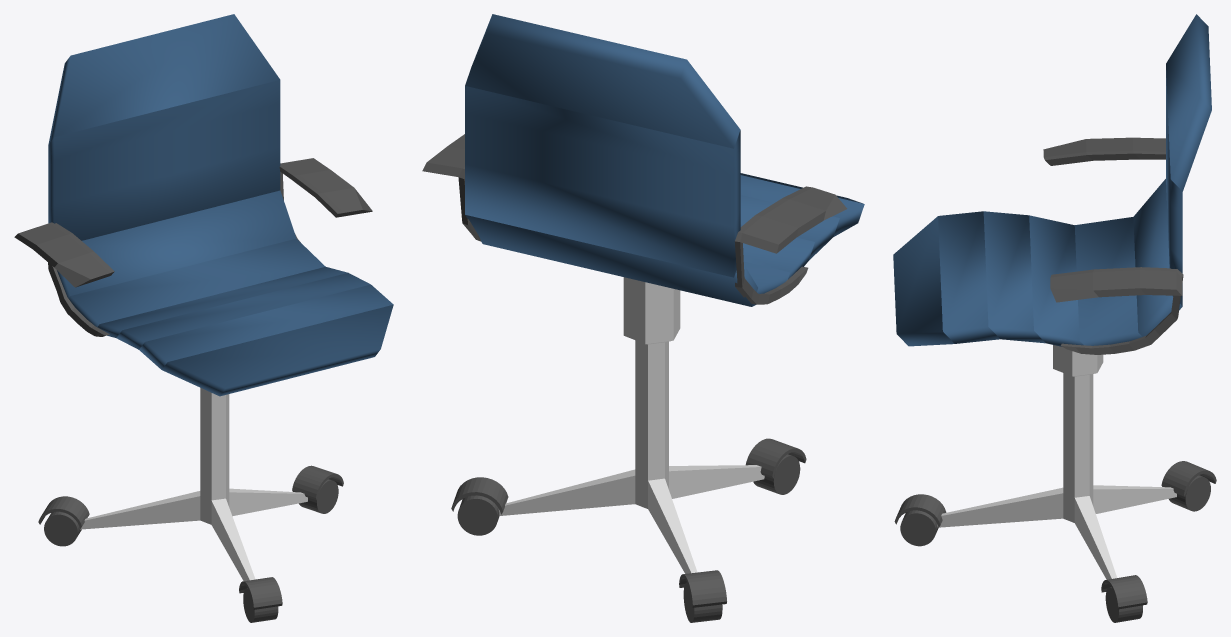
Rendered from ComputerChair.fbx.
The picture shows the model from 3 angles, left to right: view 1: azimuth 30°, elevation 25°; view 2: azimuth 150°, elevation 25°; view 3: azimuth 270°, elevation 25°; orthographic projection. The views are drawn at different scales.
Visible parts, largest first — view 1: Cylinder.006; view 2: Cylinder.006; view 3: Cylinder.006.
Boxes of the visible parts, x1,y1,x2,y2 form: Cylinder.006: (14,14,393,622); Cylinder.006: (422,14,864,622); Cylinder.006: (893,14,1216,622).
Bounding box in the file's own units: 153 × 233 × 137.
